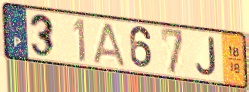1: (72, 17, 86, 63)
3: (28, 12, 59, 60)
6: (128, 25, 154, 72)
7: (160, 26, 185, 77)
A: (92, 21, 127, 69)
J: (194, 36, 218, 78)
